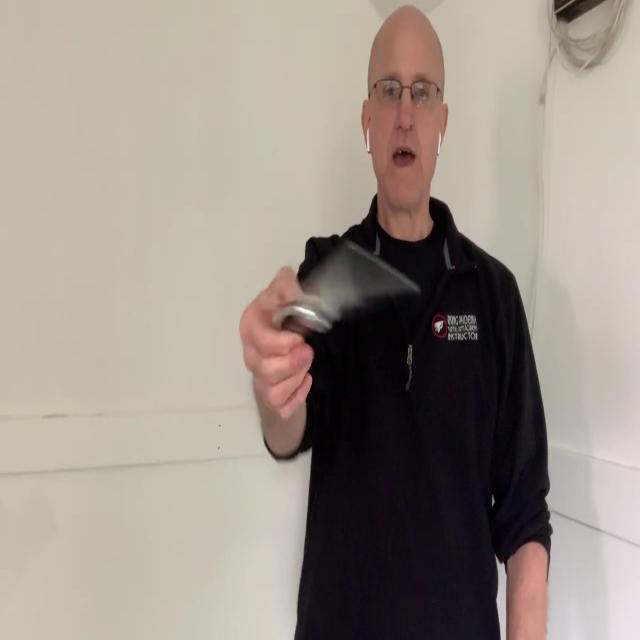Knife_Handle: (240, 240, 420, 420)
